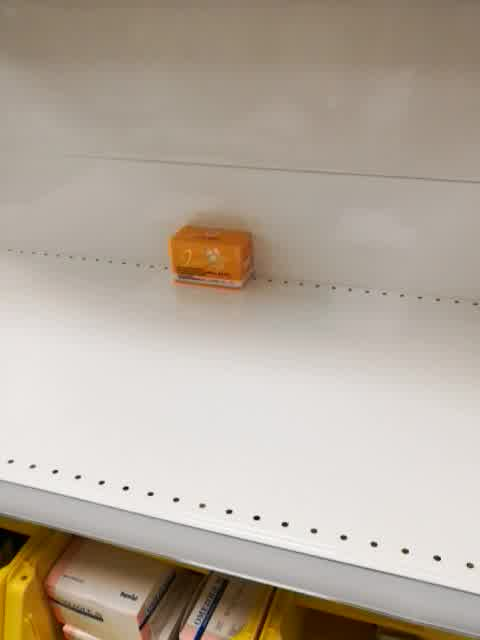jasminetea: (170, 224, 254, 292)
